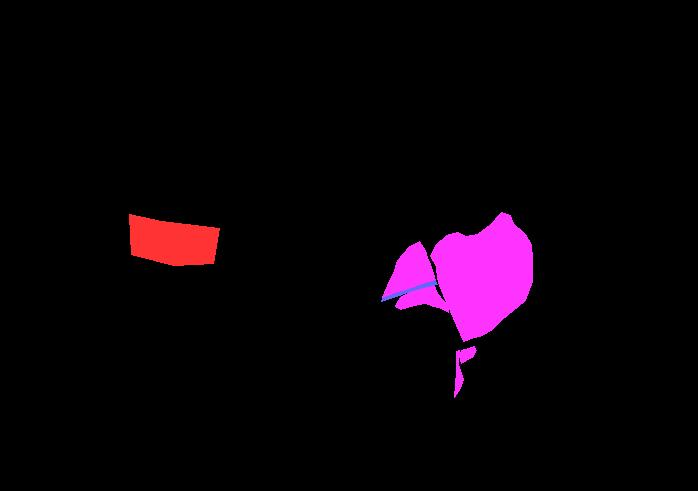Dent: (430, 212, 532, 341), (382, 241, 435, 297), (395, 285, 448, 312), (454, 350, 463, 397), (459, 346, 476, 363)
Missing part: (129, 214, 219, 265)
Scratch: (381, 280, 437, 301)
